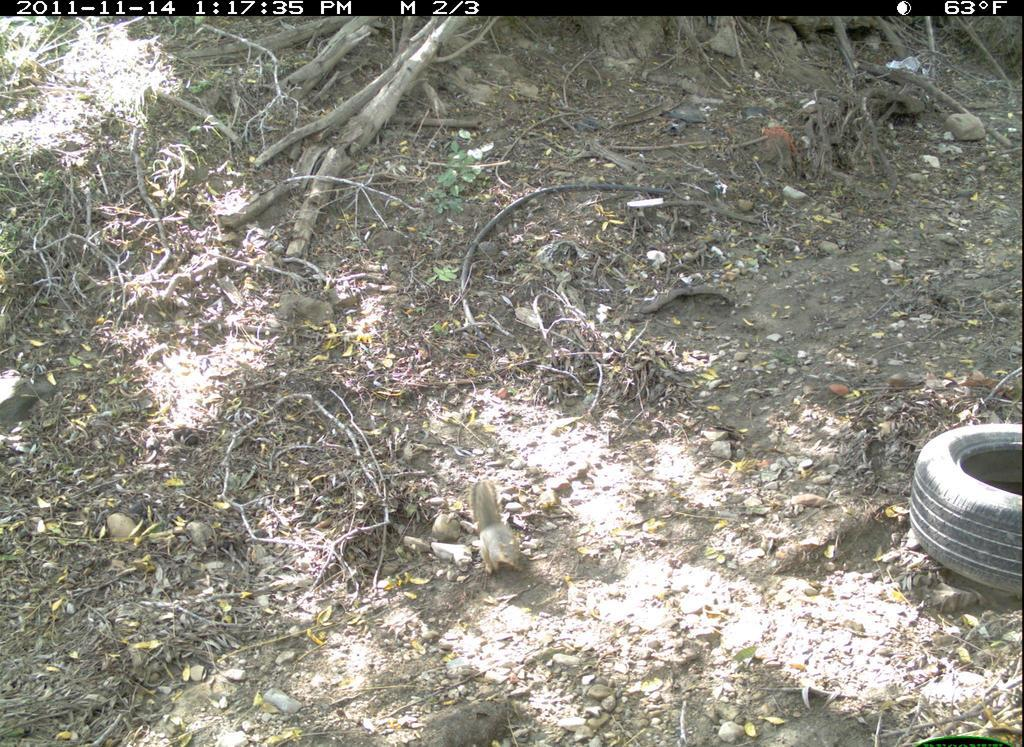squirrel: (454, 463, 536, 580)
